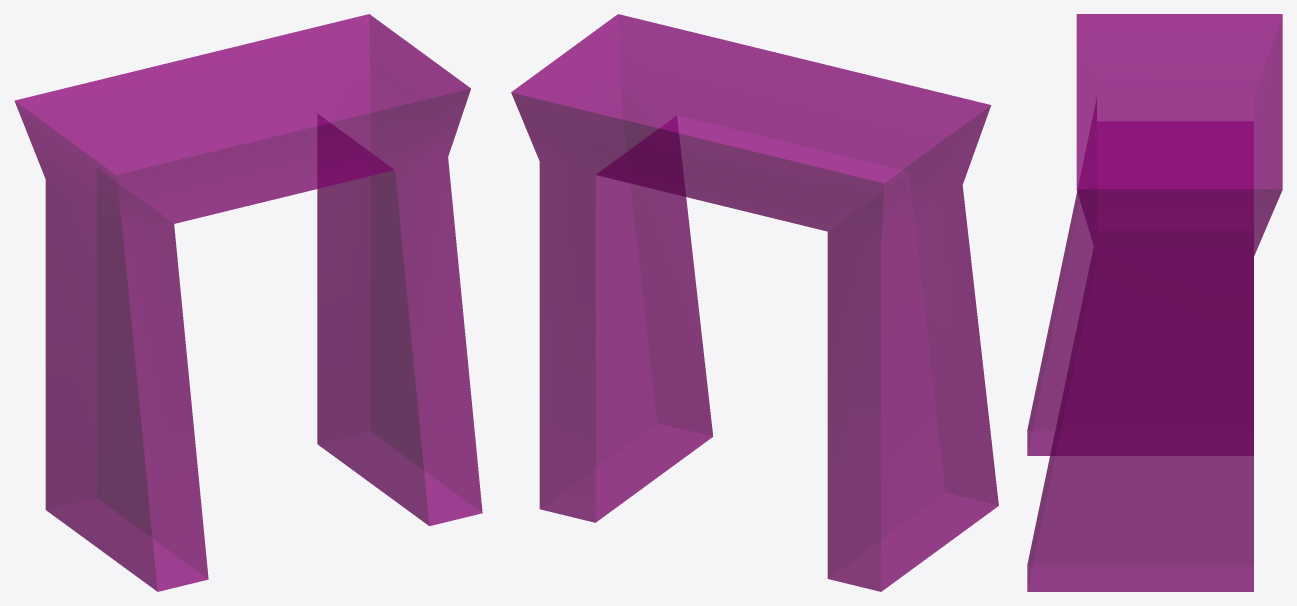
The model's file is SM_Bld_Wall_Temple_Ground_Door_Double_01_Collision.fbx.
The picture shows the model from 3 angles, left to right: view 1: azimuth 30°, elevation 25°; view 2: azimuth 150°, elevation 25°; view 3: azimuth 270°, elevation 25°; orthographic projection. The views are drawn at different scales.
Visible parts, largest first — view 1: SM_Bld_Wall_Temple_Ground_Door_Double_01_Collision; view 2: SM_Bld_Wall_Temple_Ground_Door_Double_01_Collision; view 3: SM_Bld_Wall_Temple_Ground_Door_Double_01_Collision.
Part boxes in pixels (box(x1,y1,x2,y2)): SM_Bld_Wall_Temple_Ground_Door_Double_01_Collision: box(14, 14, 482, 591); SM_Bld_Wall_Temple_Ground_Door_Double_01_Collision: box(511, 14, 998, 591); SM_Bld_Wall_Temple_Ground_Door_Double_01_Collision: box(1027, 14, 1282, 591).
Bounding box in the file's own units: 568 × 617 × 349.
